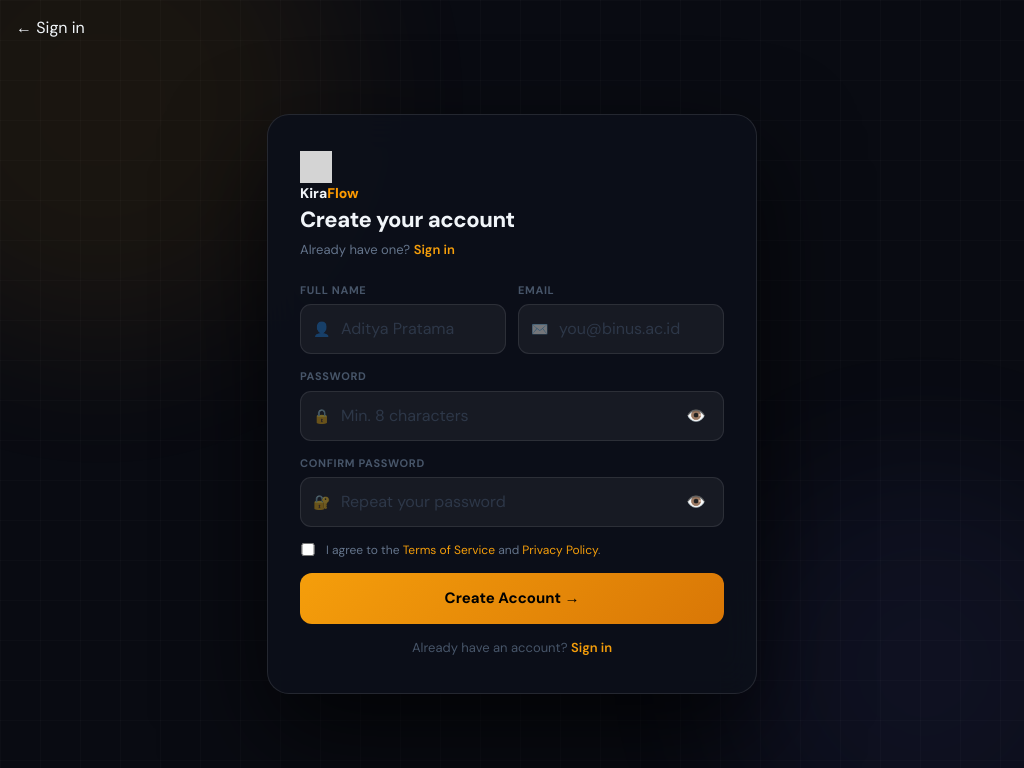
Test: RegisterPage – Validation › RP-07: shows error for invalid email
This screenshot has width=1024, height=768.
Type "Brian" into the field with placeholder "Aditya Pratama". click: coordinates (403, 329)
box: [300, 304, 506, 354]
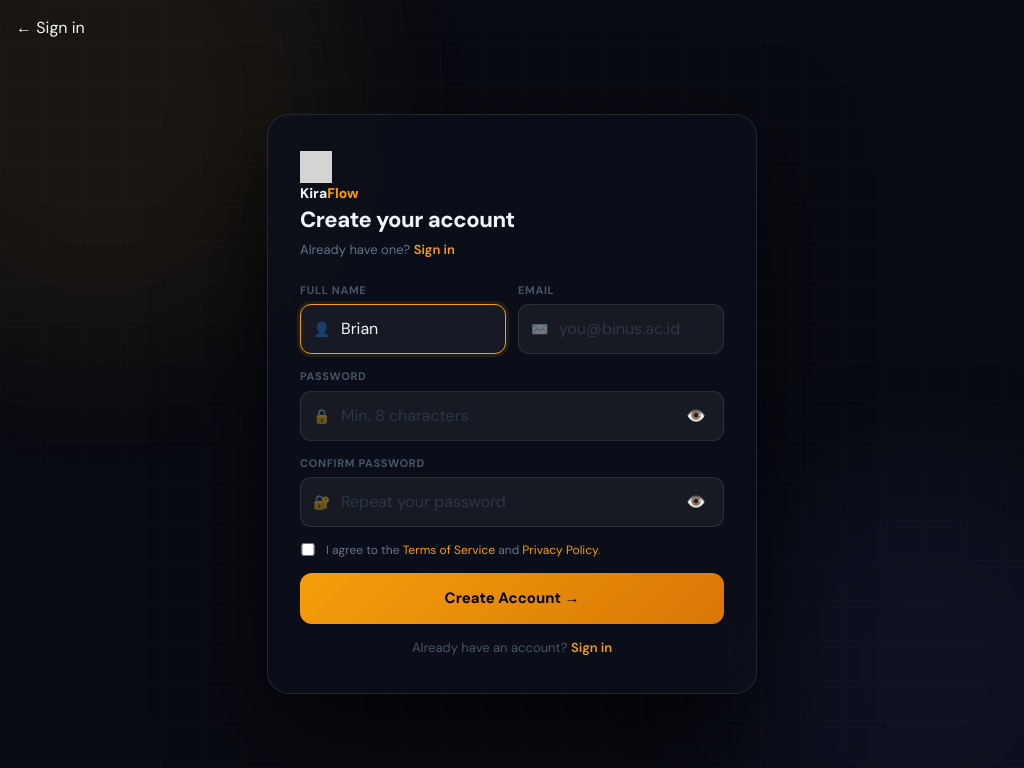
Type "notanemail" into the field with placeholder "you@binus.ac.id". click: coordinates (621, 329)
box: [518, 304, 724, 354]
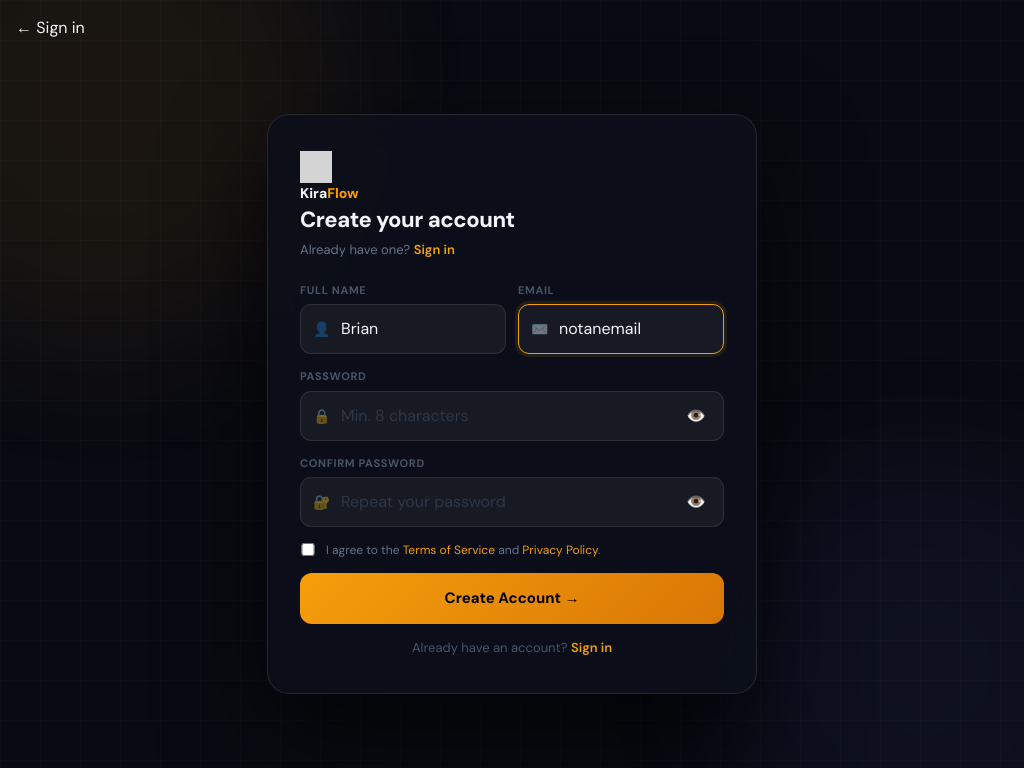
Type "Pass1234!" into the password field with placeholder "Min. 8 characters". click: coordinates (512, 416)
box: [300, 390, 724, 440]
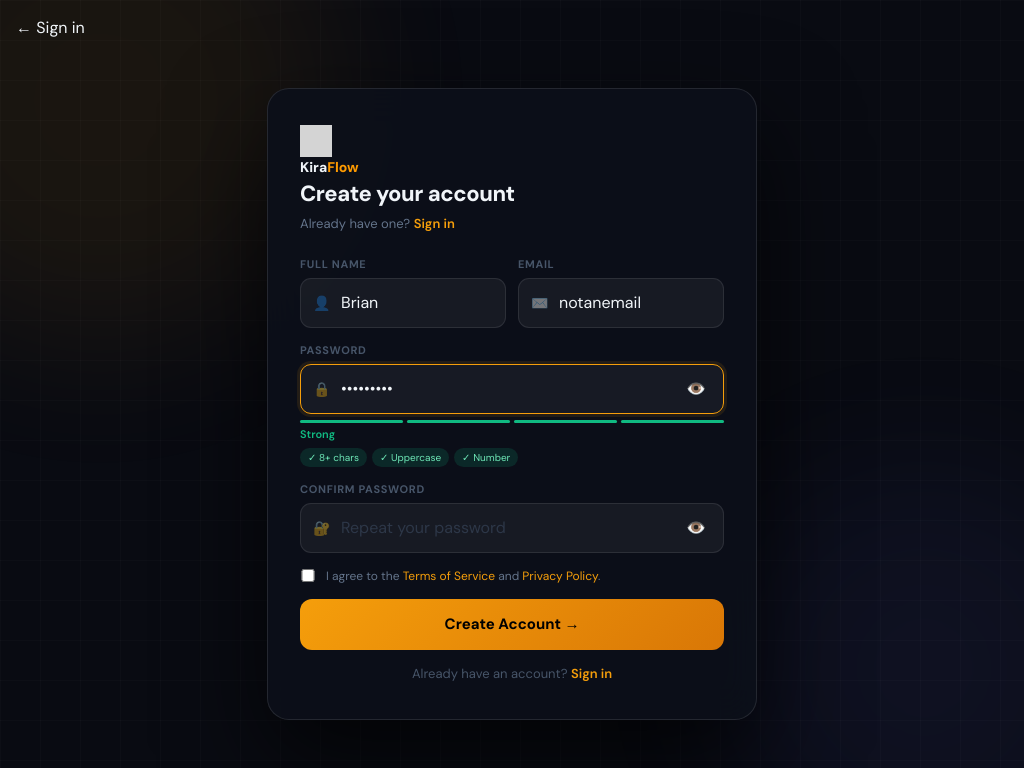
Type "Pass1234!" into the password field with placeholder "Repeat your password". click: coordinates (512, 528)
box: [300, 503, 724, 553]
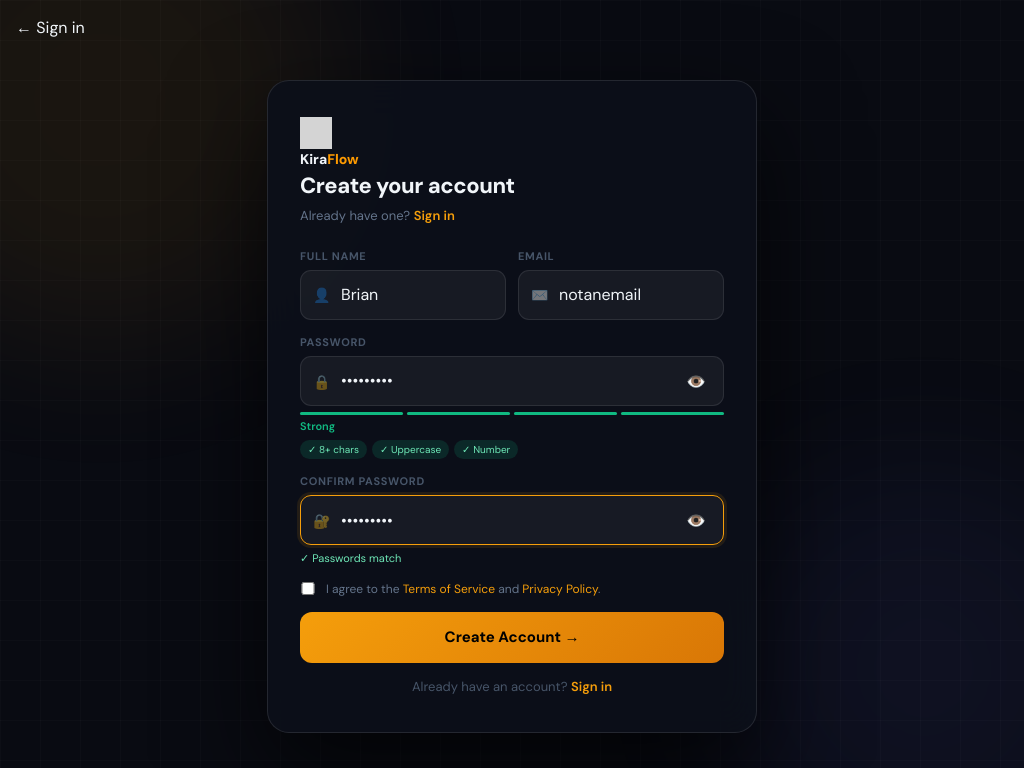
Click the checkbox. click: coordinates (308, 588)
box: [300, 582, 316, 595]
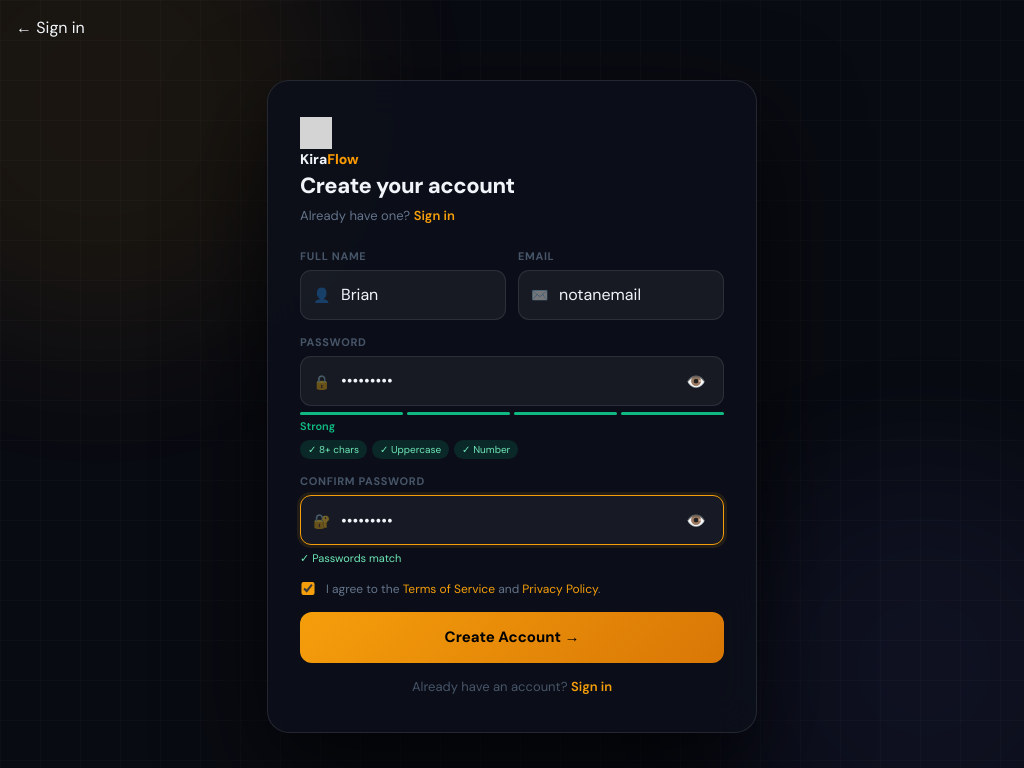
Click the button "Create Account →". click: coordinates (512, 637)
box: [300, 612, 724, 662]
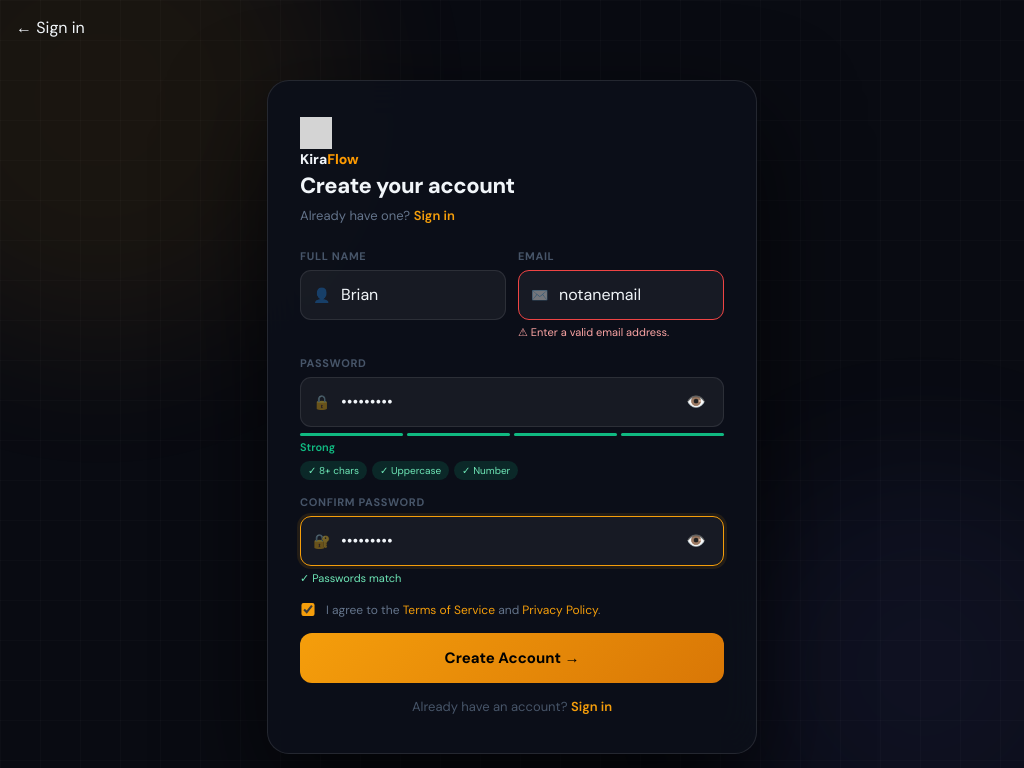
Now the text "⚠ Enter a valid email address." is shown, box [518, 325, 669, 339]
